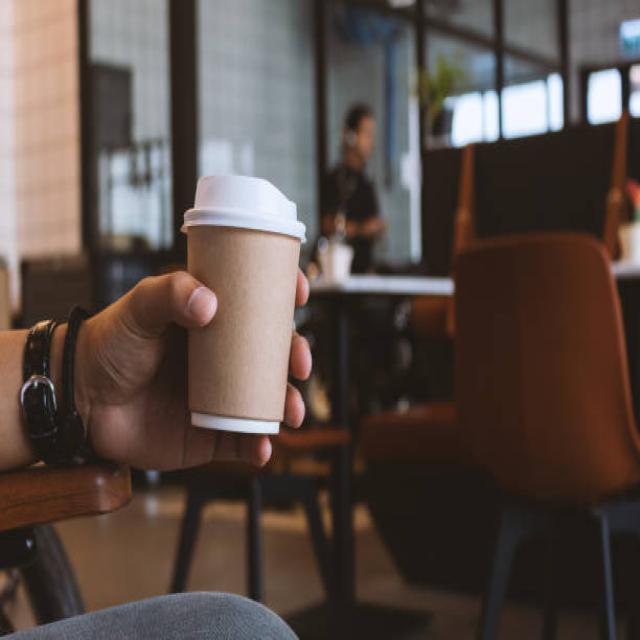cup: (180, 172, 309, 436)
